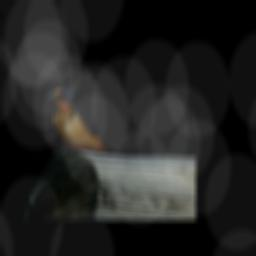Swallow: (47, 86, 157, 155)
